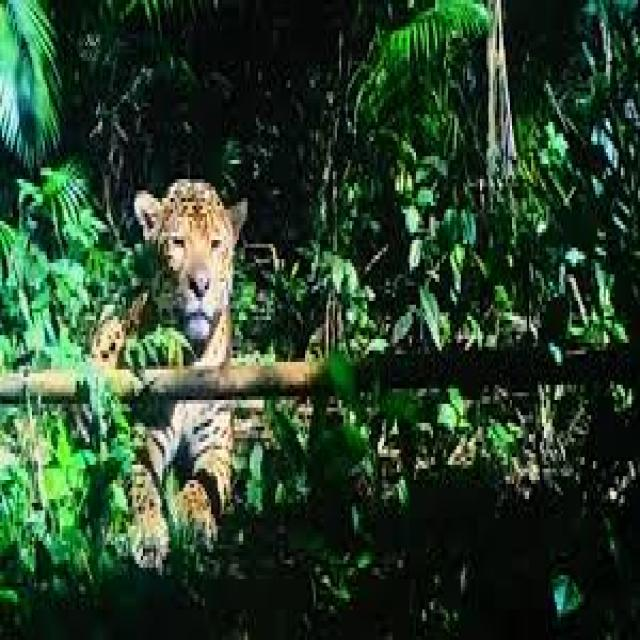Jaguar: (137, 122, 246, 522)
